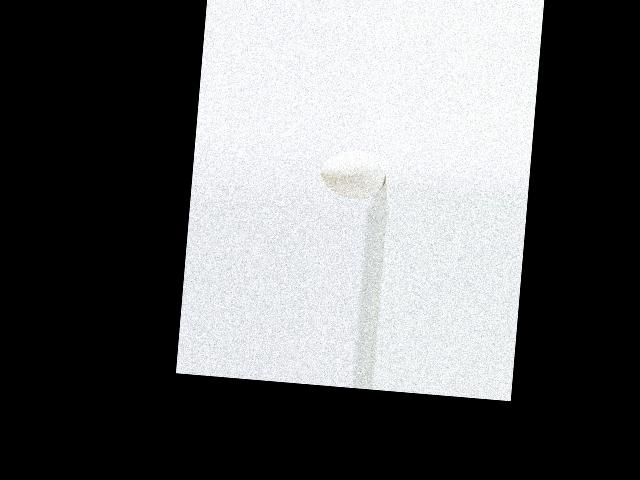egg: (318, 147, 387, 200)
